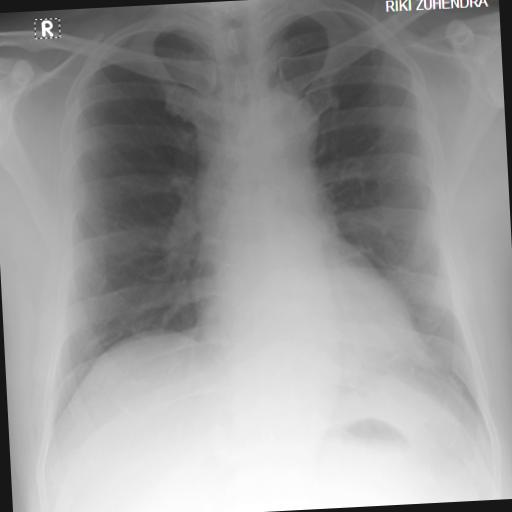kardiomegali: (19, 0, 494, 447)
